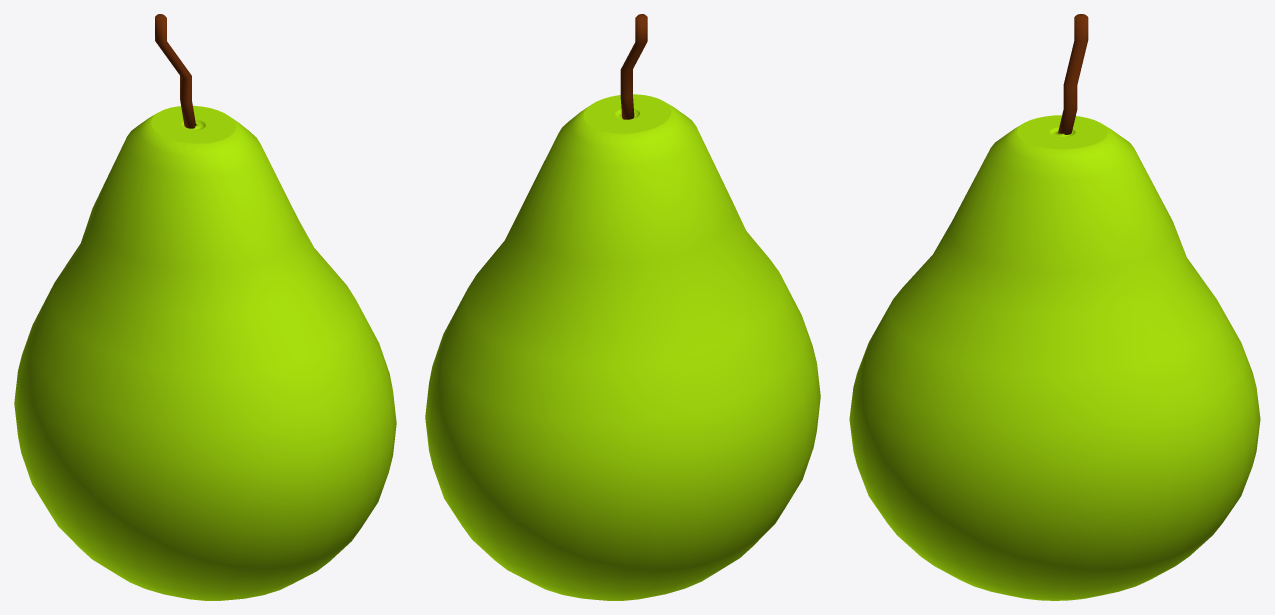
The model's file is pear.fbx.
The picture shows the model from 3 angles, left to right: view 1: azimuth 30°, elevation 25°; view 2: azimuth 150°, elevation 25°; view 3: azimuth 270°, elevation 25°; orthographic projection. The views are drawn at different scales.
Visible parts, largest first — view 1: Sphere; view 2: Sphere; view 3: Sphere.
Part boxes in pixels (x1,y1,x2,y2): Sphere: (14, 14, 396, 600); Sphere: (425, 14, 820, 600); Sphere: (849, 14, 1260, 600).
Bounding box in the file's own units: 200 × 336 × 226.
